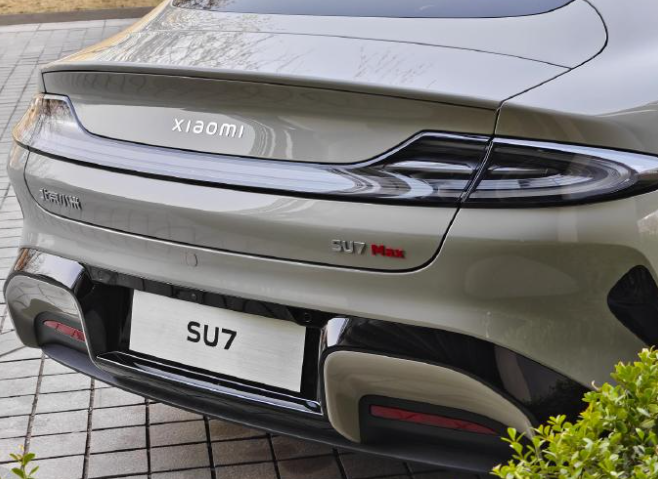su7: (8, 0, 656, 478)
